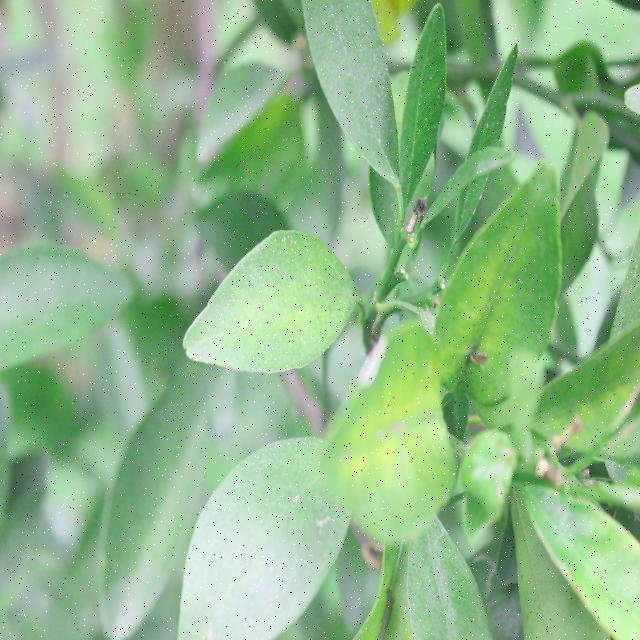blackspot: (213, 255, 339, 364), (519, 565, 545, 640)
